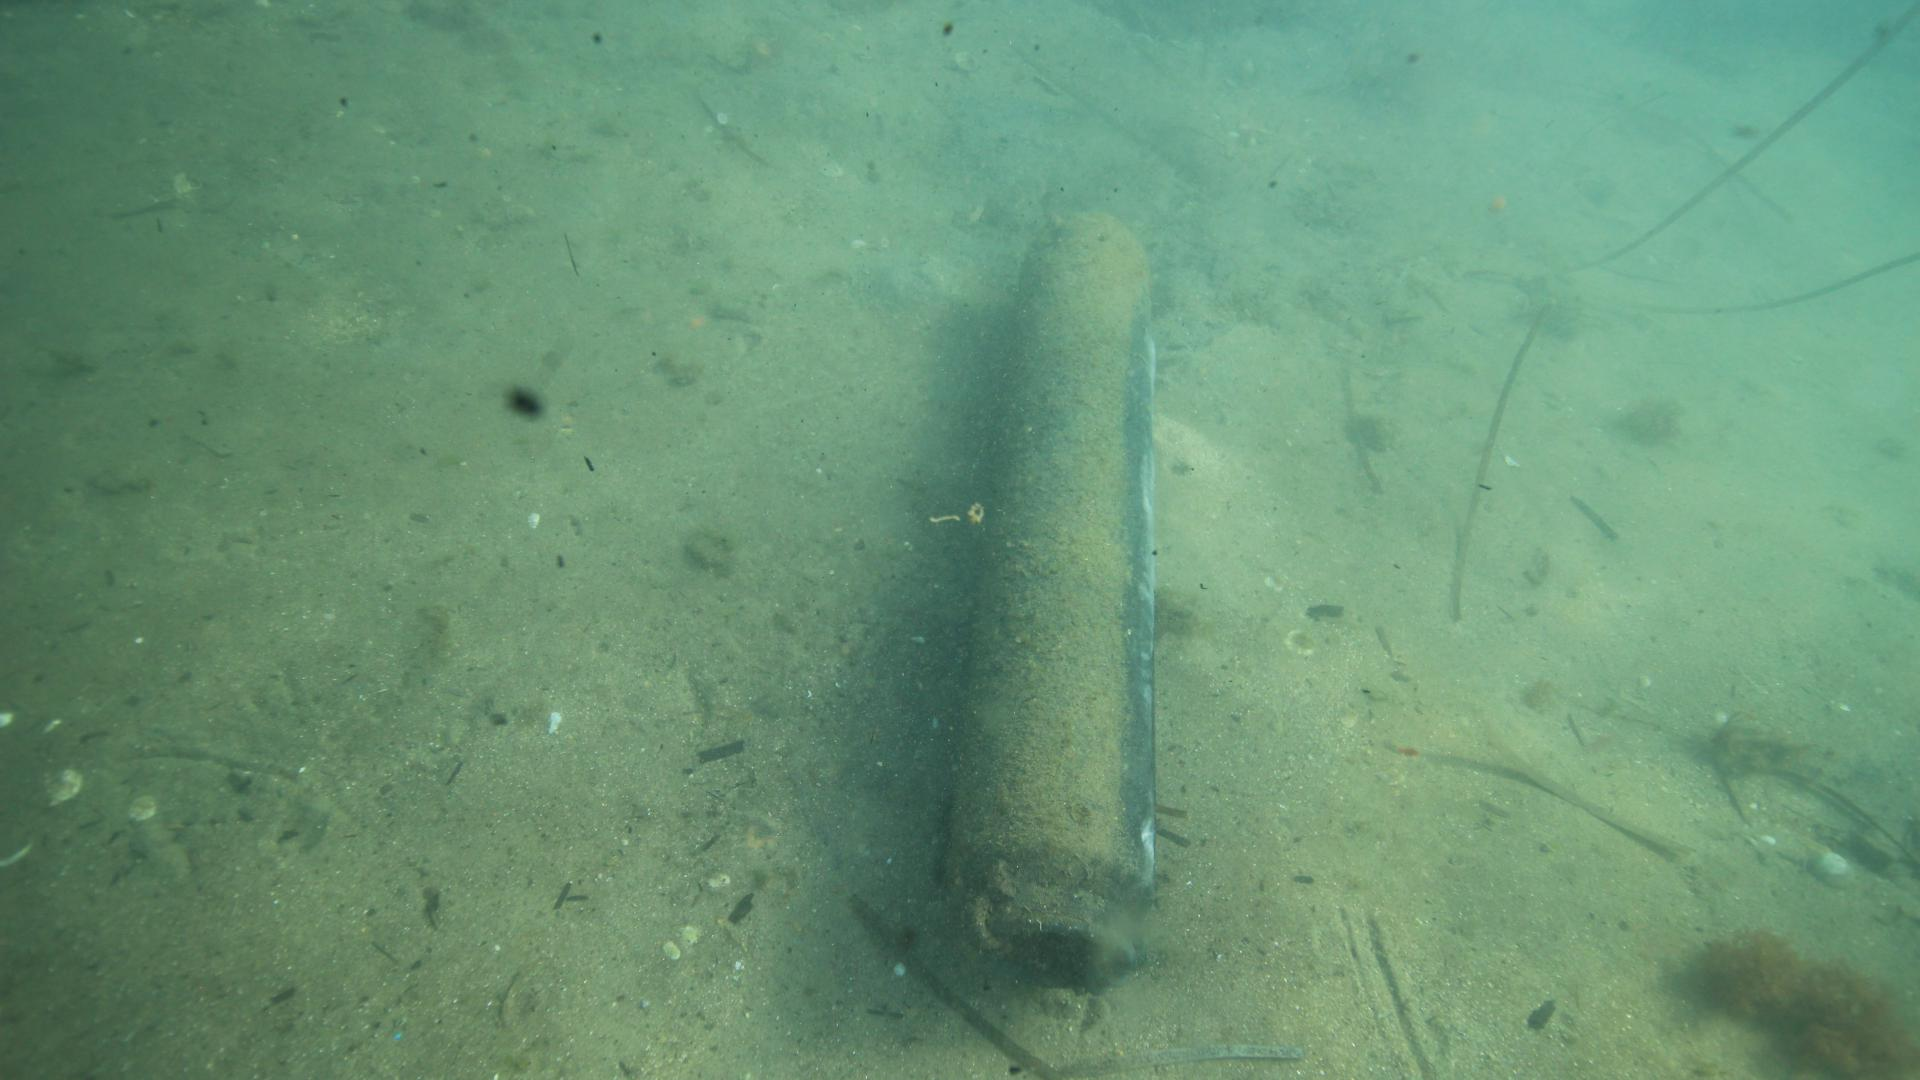eel fish trap: (935, 211, 1160, 994)
